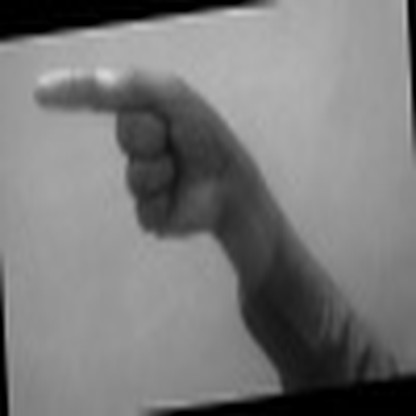g: (24, 56, 258, 241)
